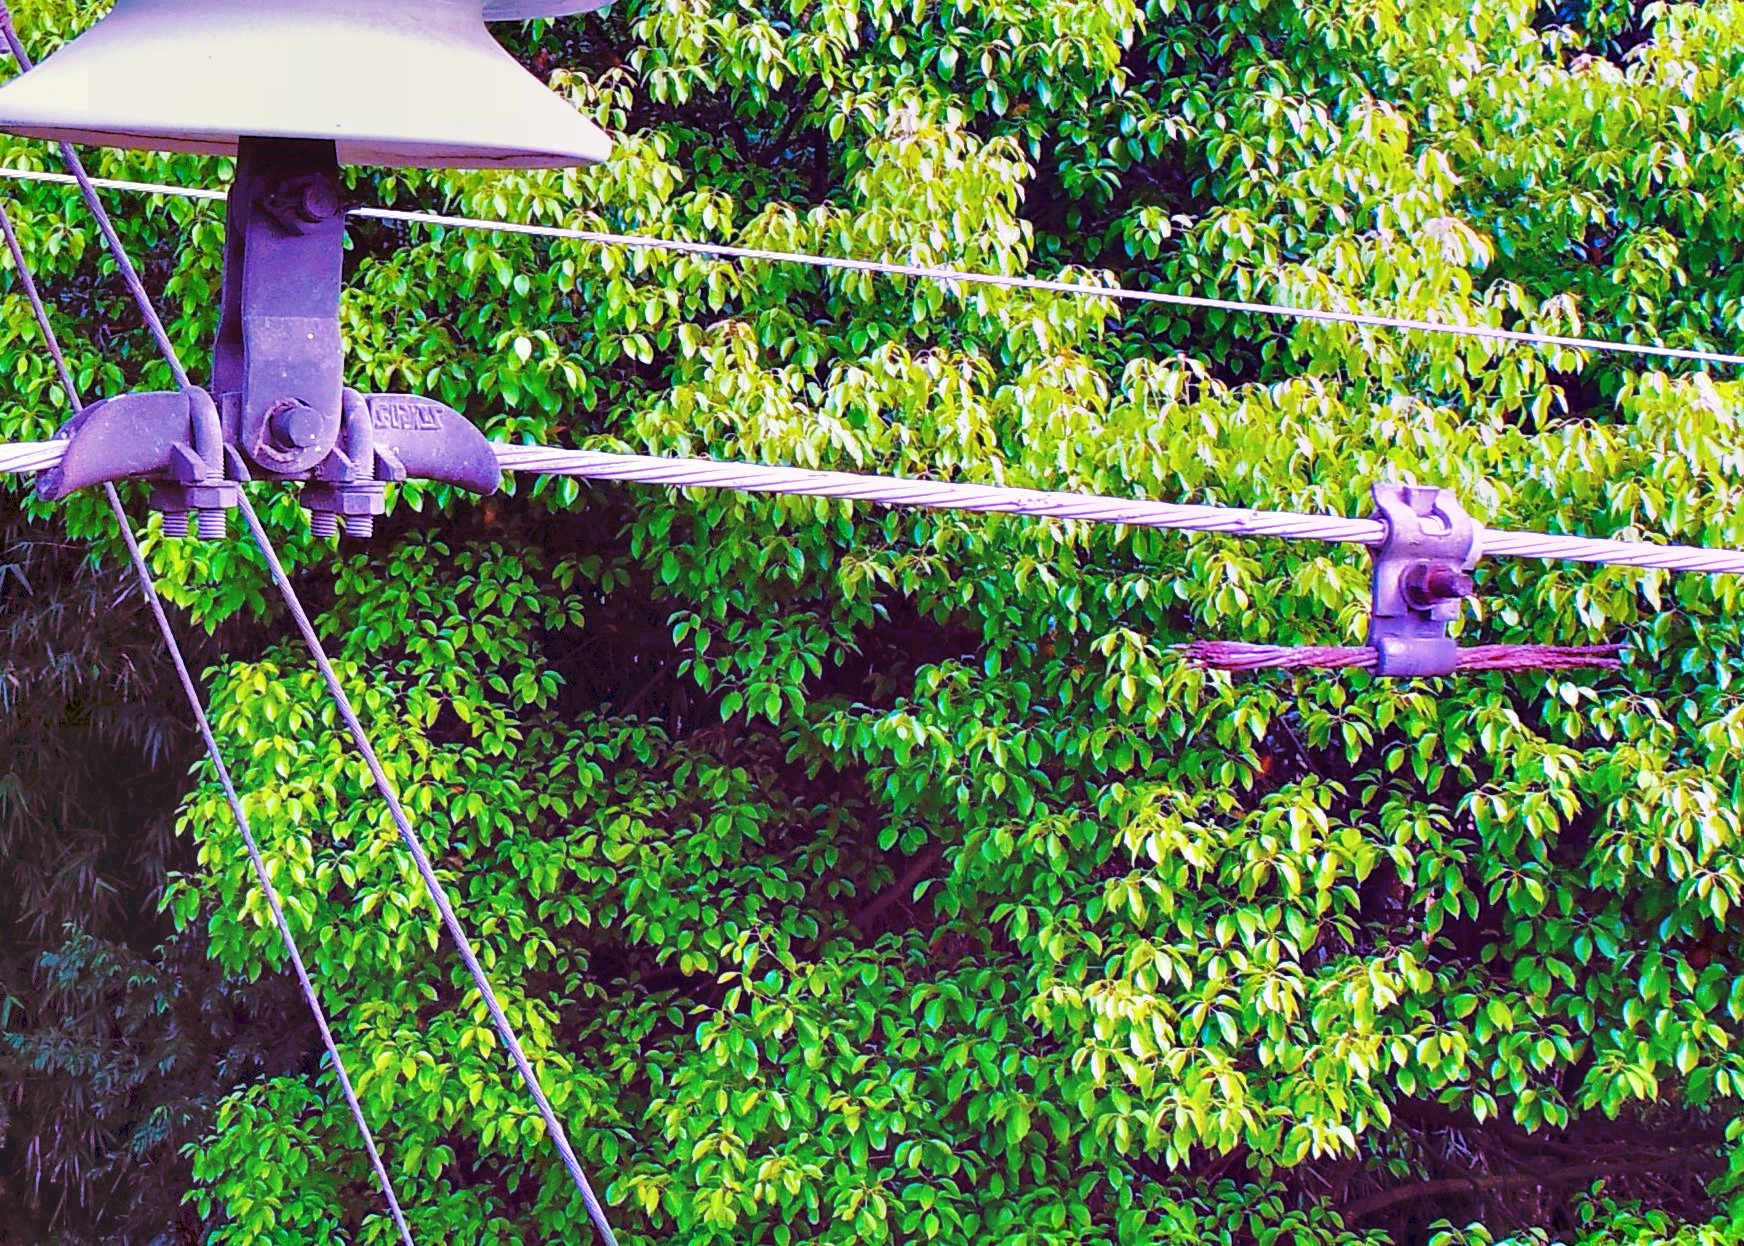Damage of shockproof hammer: (1148, 471, 1656, 705)
